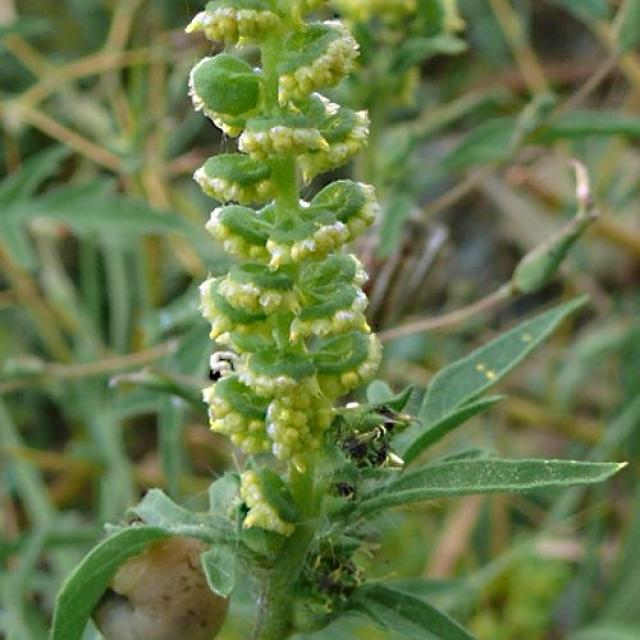ambrosia: (164, 0, 411, 613)
